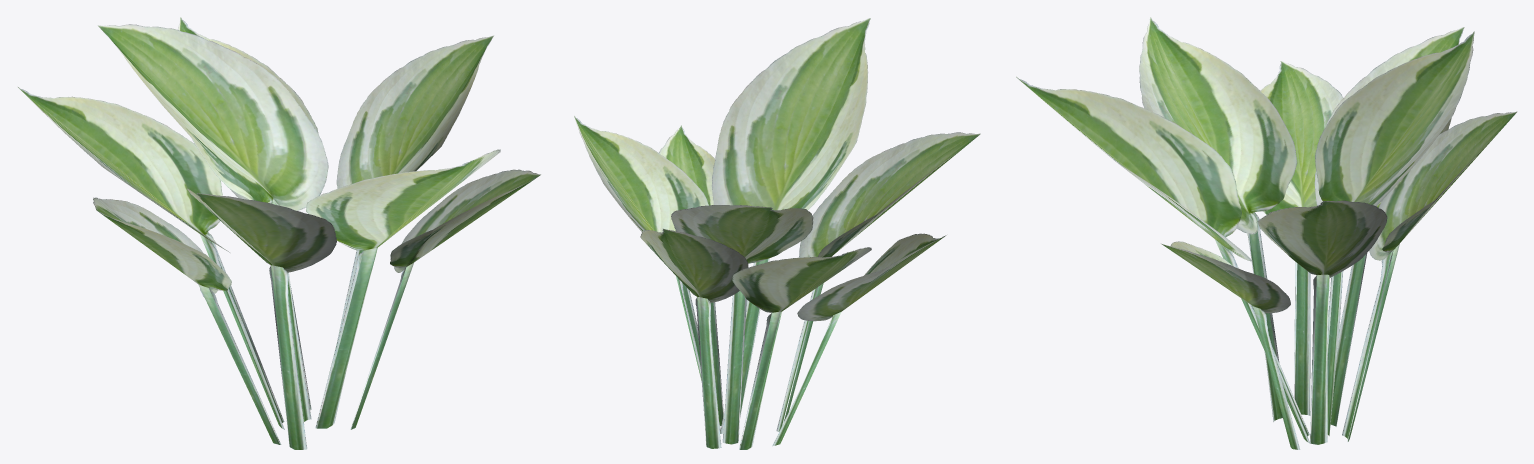
The model's file is plant_small_wg_02H.fbx.
3 renders of one model, left to right at view 1: azimuth 30°, elevation 25°; view 2: azimuth 150°, elevation 25°; view 3: azimuth 270°, elevation 25°, orthographic. The views are drawn at different scales.
Parts seen in each view (by area): view 1: plant_small_wg_02H; view 2: plant_small_wg_02H; view 3: plant_small_wg_02H.
Boxes of the visible parts, <box> form: plant_small_wg_02H: <box>18,17,540,449</box>; plant_small_wg_02H: <box>574,18,980,449</box>; plant_small_wg_02H: <box>1016,17,1517,449</box>.
Bounding box in the file's own units: 55.68 × 48.39 × 61.79.
